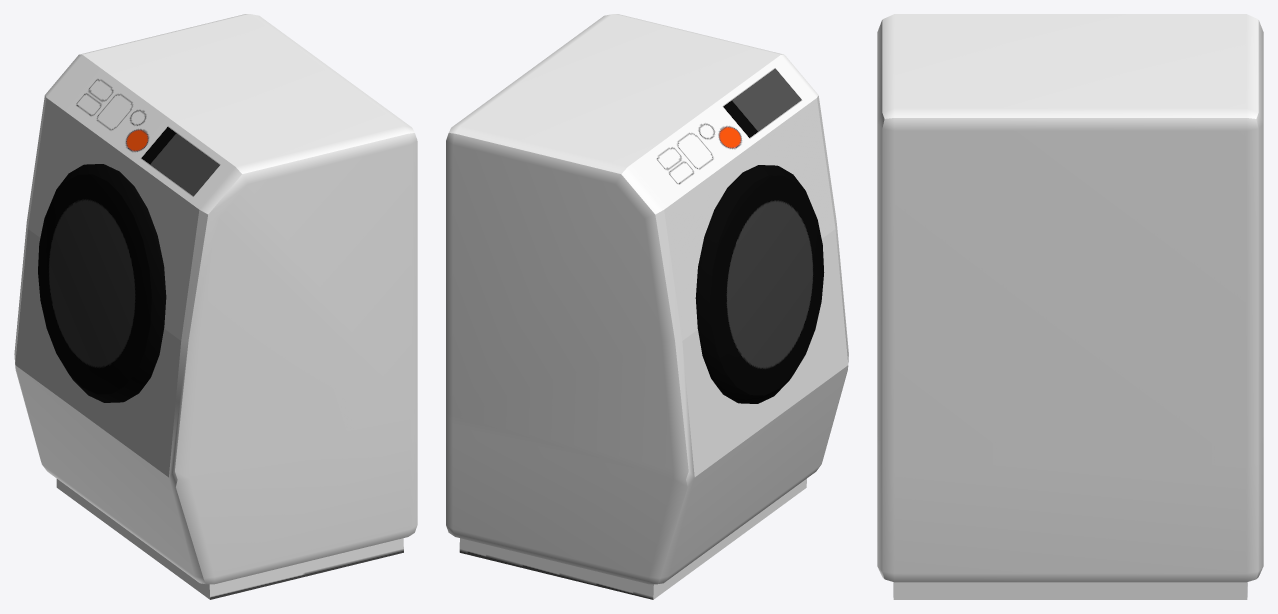
Rendered from sentakuki_B.fbx.
The picture shows the model from 3 angles, left to right: view 1: azimuth 30°, elevation 25°; view 2: azimuth 150°, elevation 25°; view 3: azimuth 270°, elevation 25°; orthographic projection. The views are drawn at different scales.
Parts seen in each view (by area): view 1: pCube95; view 2: pCube95; view 3: pCube95.
Boxes of the visible parts, box(x1,y1,x2,y2) form: pCube95: box(14, 14, 417, 599); pCube95: box(446, 14, 848, 599); pCube95: box(877, 14, 1263, 599).
Bounding box in the file's own units: 4.15 × 6.6 × 4.7.
1 material, 1 textured.
